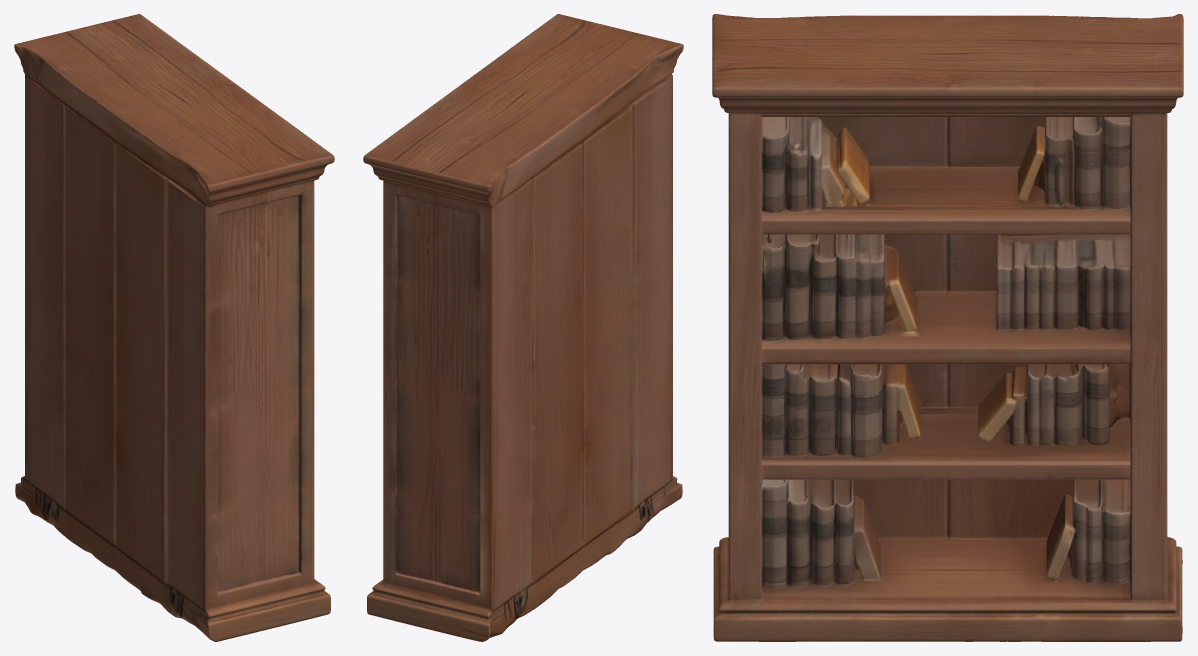
The model's file is detailed_realistic_model_ancientbookshelf_03.glb.
The picture shows the model from 3 angles, left to right: view 1: azimuth 30°, elevation 25°; view 2: azimuth 150°, elevation 25°; view 3: azimuth 270°, elevation 25°; orthographic projection. The views are drawn at different scales.
Parts seen in each view (by area): view 1: tripo_node_b2a4ca65-fc44-4c26-bbac-188467bbfdda; view 2: tripo_node_b2a4ca65-fc44-4c26-bbac-188467bbfdda; view 3: tripo_node_b2a4ca65-fc44-4c26-bbac-188467bbfdda.
Part boxes in pixels (x1,y1,x2,y2): tripo_node_b2a4ca65-fc44-4c26-bbac-188467bbfdda: (14,14,334,641); tripo_node_b2a4ca65-fc44-4c26-bbac-188467bbfdda: (363,14,683,641); tripo_node_b2a4ca65-fc44-4c26-bbac-188467bbfdda: (712,14,1183,641).
Size of the model in its own units: 0.2882 by 1 by 0.7646.
Materials: 1 (1 with a texture image).
